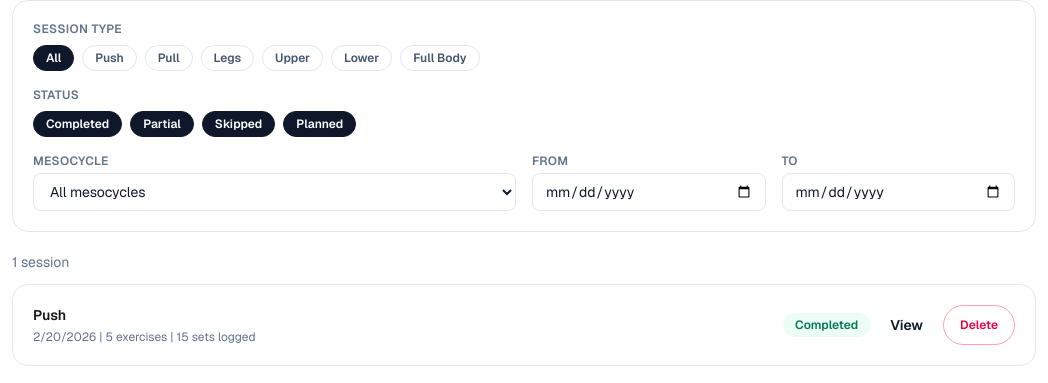
Test case: HistoryClient › filter change resets workout list and re-fetches from API
This screenshot has width=1048, height=383.
Expected: the text "2/20/2026 | 5 exercises | 15 sets logged" is shown, [33,329,256,345]
// Click "Pull" intent button
Step 1. Click the button "Pull" → [169, 58], box [145,45,192,71]
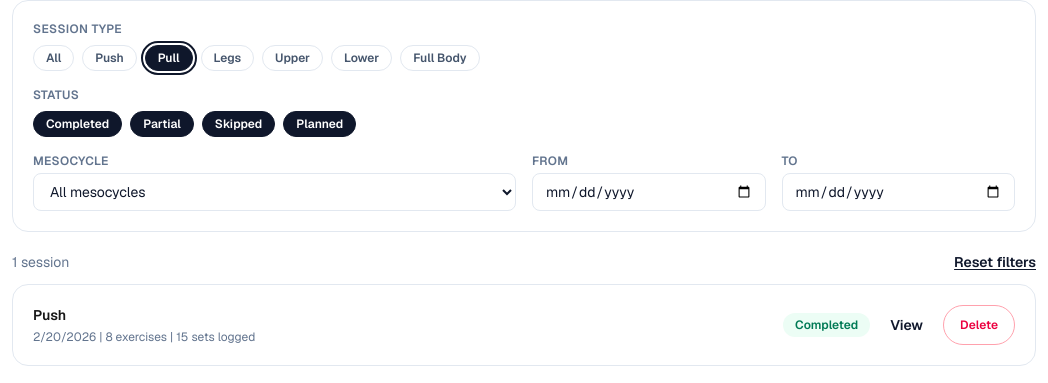
Now the text "5 exercises" is gone
Now the text "2/20/2026 | 8 exercises | 15 sets logged" is shown, box [33,329,255,345]
